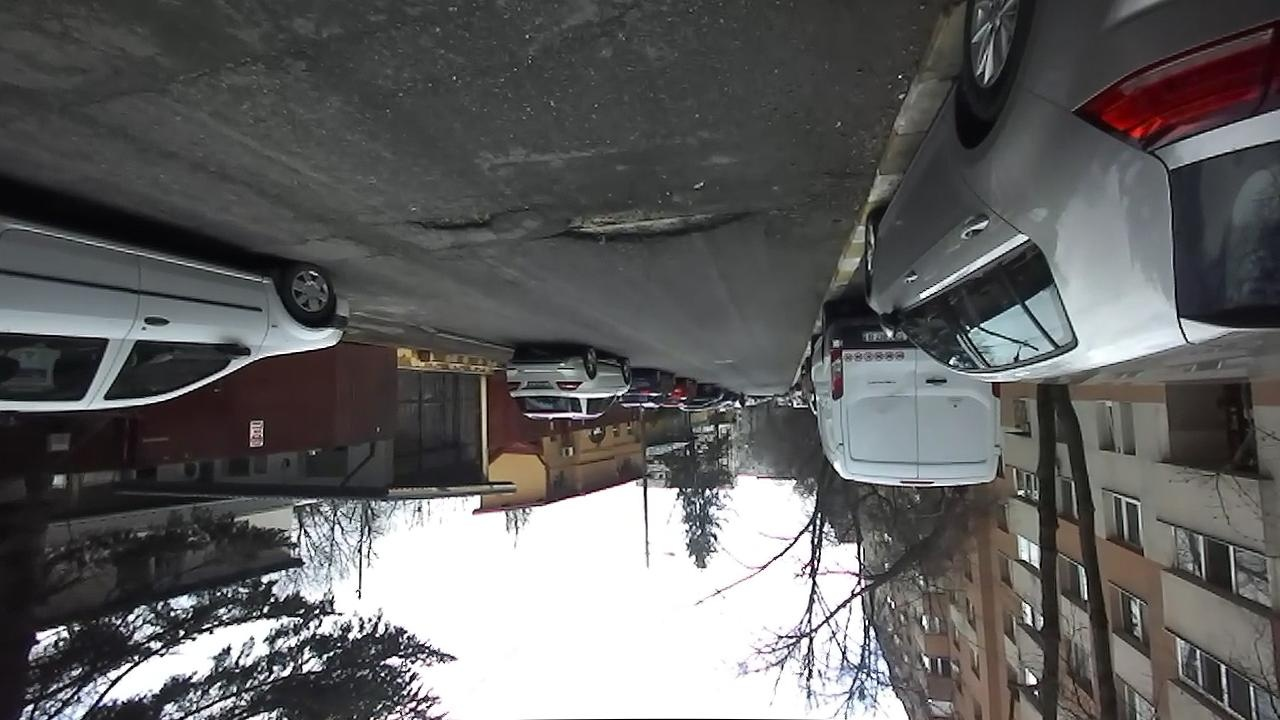pothole: (531, 201, 762, 248), (404, 205, 530, 234)
